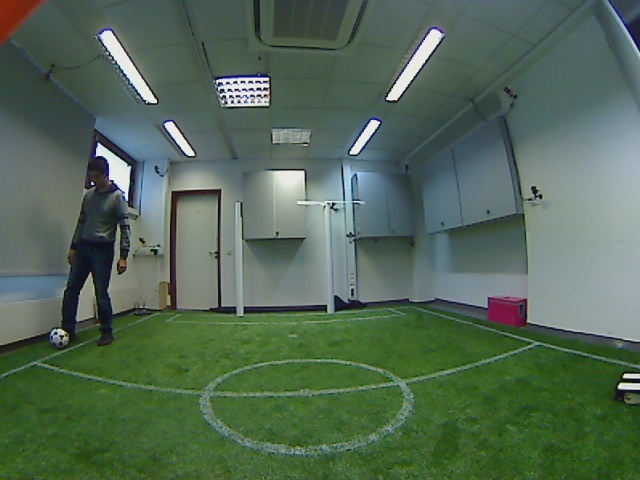ball: (46, 325, 75, 353)
